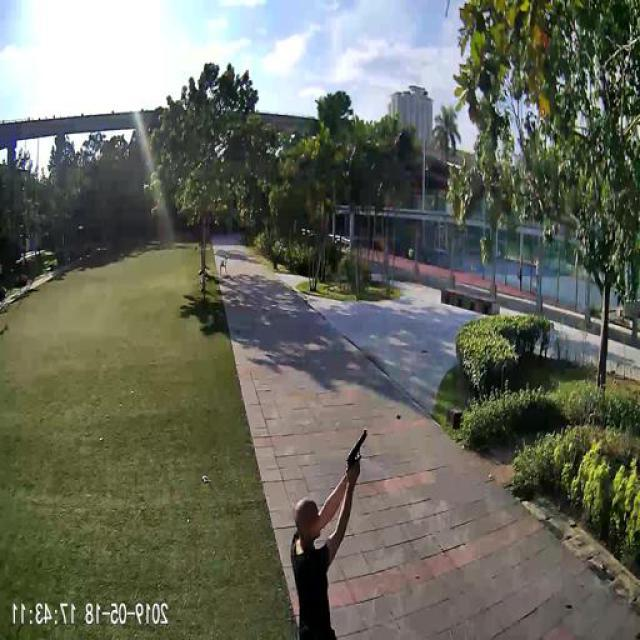Gun: (349, 425, 370, 466)
